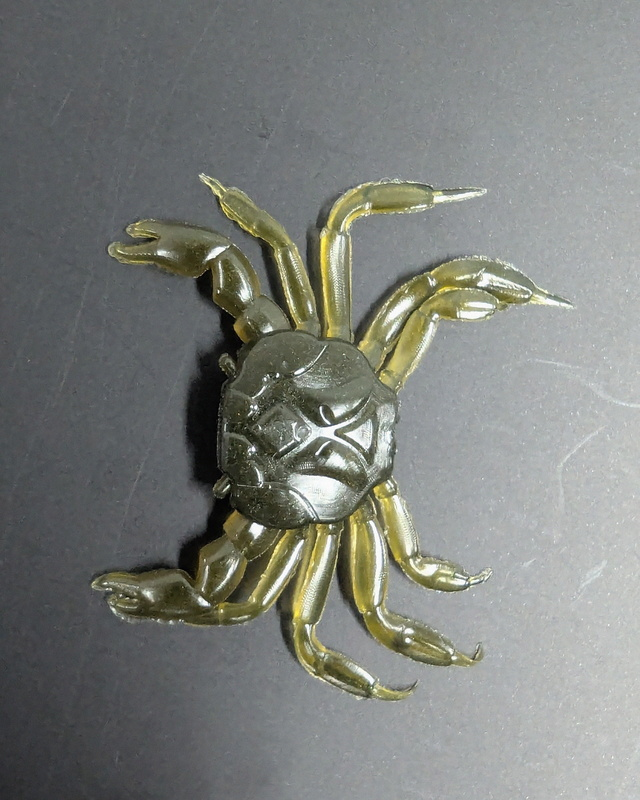crab2: (90, 170, 583, 705)
